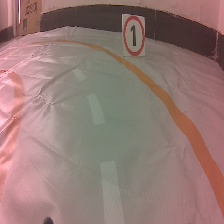limit: (119, 10, 149, 59)
